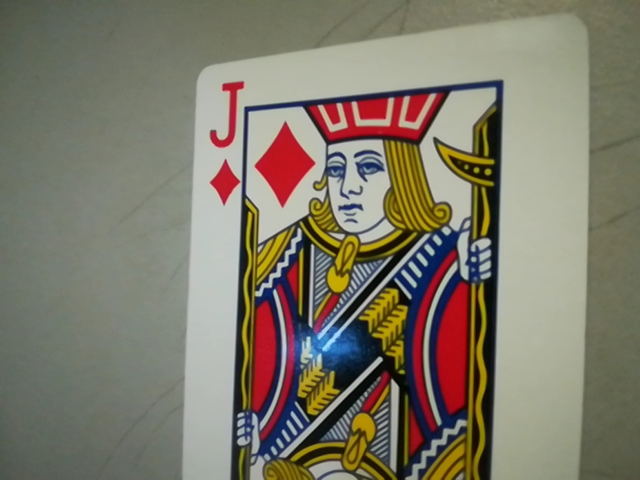fk j: (198, 74, 250, 207)
